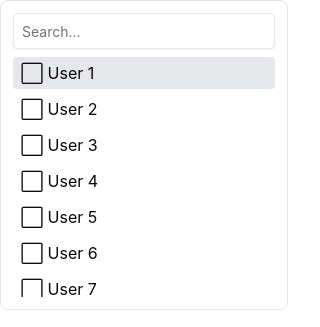
Test: MultiSelect › filters items by search
The width and height of the screenshot is (320, 327).
Type "user5@test.com" into the dropdown named "Search options" at (144, 31), box [13,13,275,49]
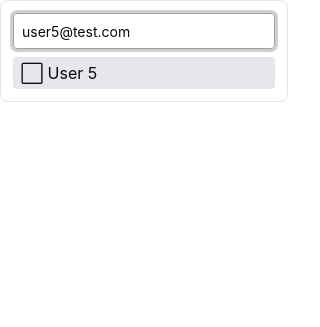
Expected: the text "⬜ User 5" is shown, [21,61,97,85]
Now the option "⬜ User 1" is gone
Now the option "⬜ User 2" is gone
